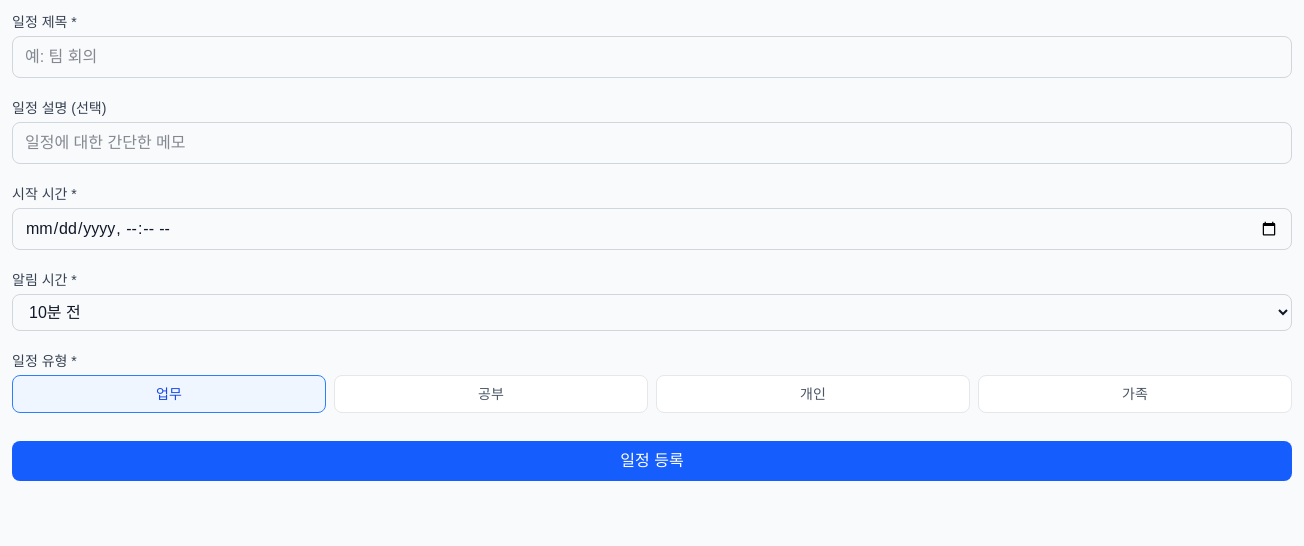
Test: ScheduleForm 컴포넌트 › 제목이 비어있으면 제출이 막힌다
Click the button "일정 등록". click: [652, 461]
box: [12,441,1292,481]
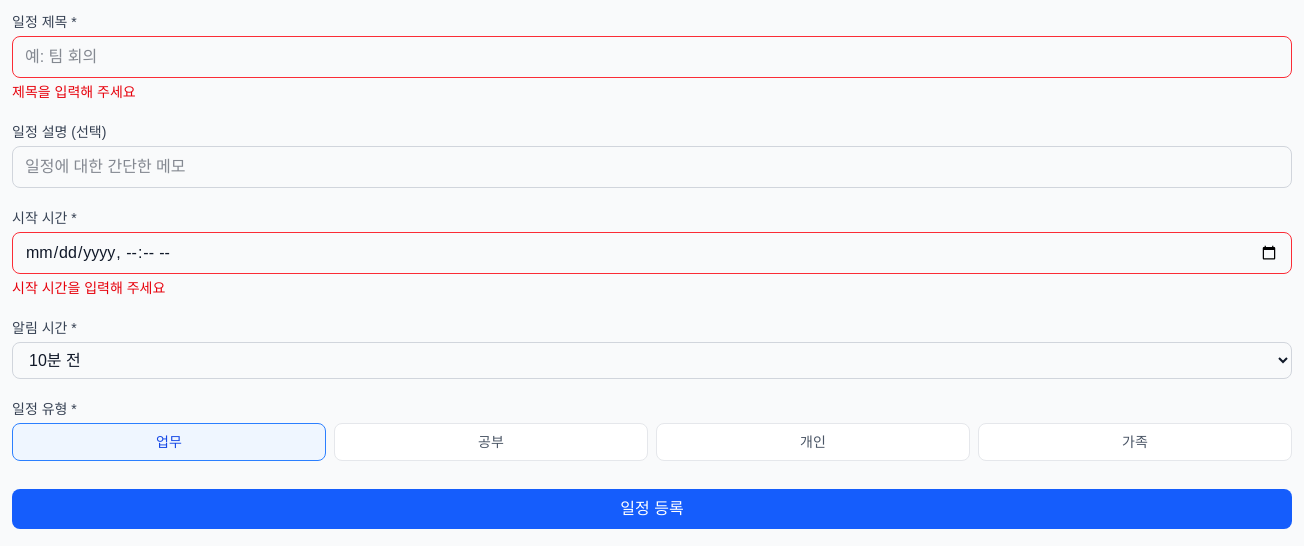
Expected: the text "제목을 입력해 주세요" is shown, [12,84,136,100]
